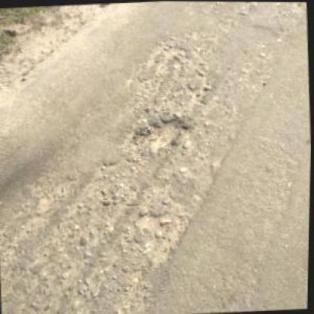Hueco: (134, 114, 192, 151)
